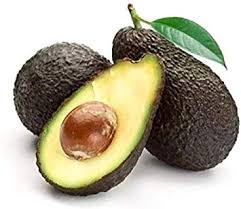fit_avocado: (117, 25, 235, 162), (18, 37, 110, 123)
